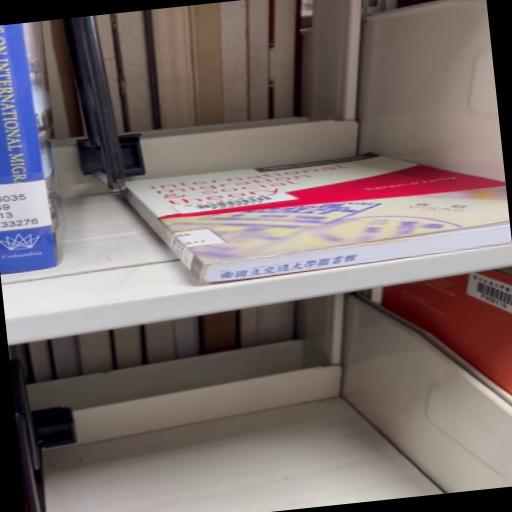flat: (127, 154, 511, 284)
